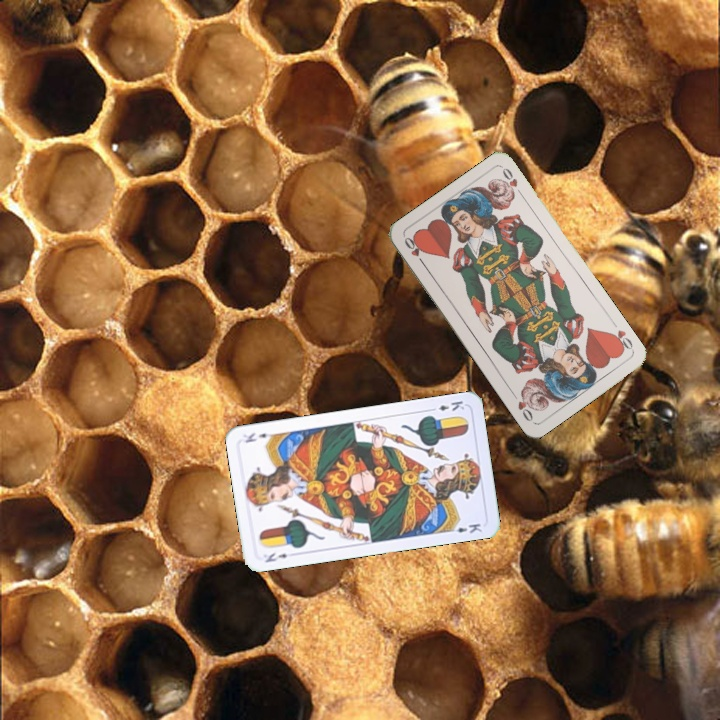EK: (426, 397, 467, 414), (261, 548, 290, 565)
HO: (400, 233, 428, 269), (606, 326, 636, 354)
